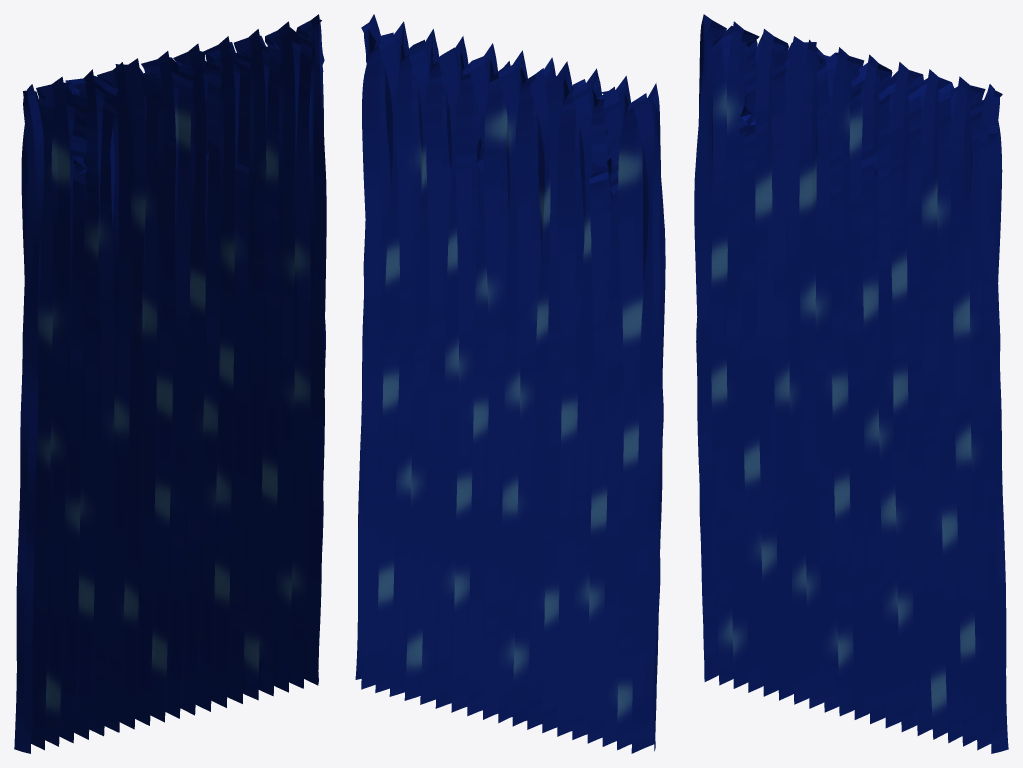
Rendered from curtain_output.glb.
3 views of the same model, side by side, from view 1: azimuth 30°, elevation 25°; view 2: azimuth 150°, elevation 25°; view 3: azimuth 330°, elevation 25° (orthographic).
Visible parts, largest first — view 1: Curtain; view 2: Curtain; view 3: Curtain.
Boxes of the visible parts, x1,y1,x2,y2 form: Curtain: [14, 14, 326, 753]; Curtain: [355, 14, 665, 753]; Curtain: [694, 14, 1008, 753].
Size of the model in its own units: 1.02 by 2.13 by 0.1625.
Materials: 1 (1 with a texture image).
